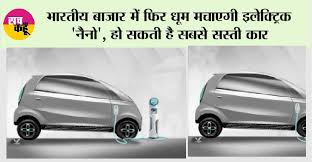Nano: (12, 73, 143, 143), (195, 70, 307, 145)
